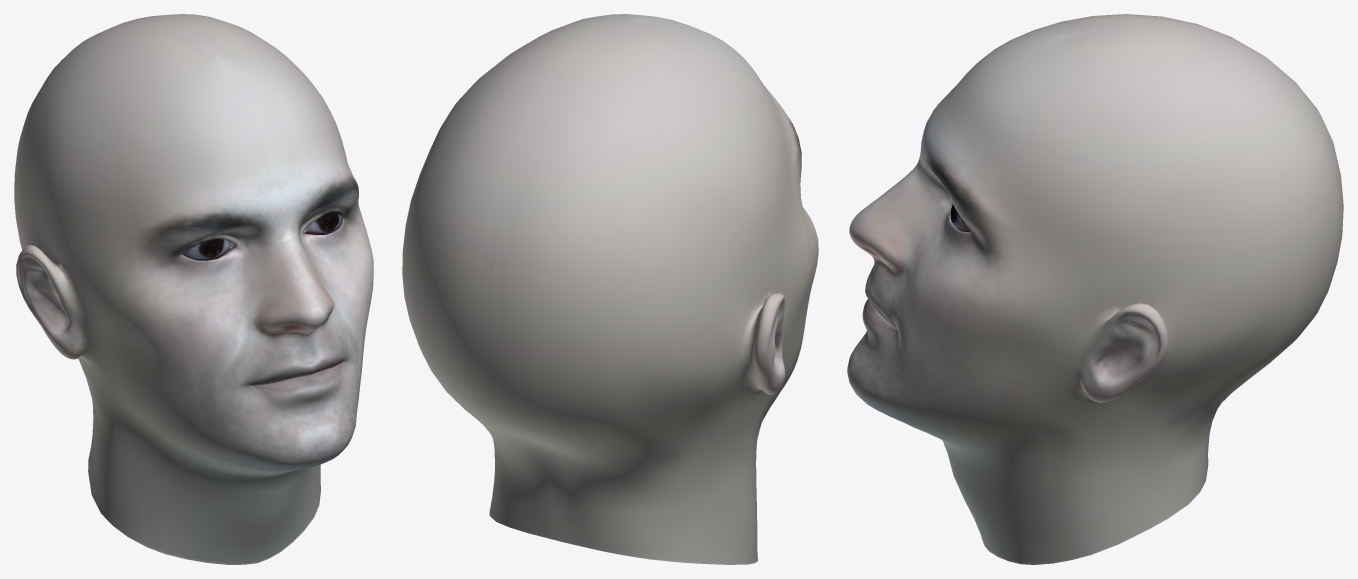
The picture shows the model from 3 angles, left to right: view 1: azimuth 30°, elevation 25°; view 2: azimuth 150°, elevation 25°; view 3: azimuth 270°, elevation 25°; orthographic projection. The views are drawn at different scales.
Parts seen in each view (by area): view 1: skin_hi, eyeR_hi, eyeL_hi; view 2: skin_hi; view 3: skin_hi.
Boxes of the visible parts, box(x1,y1,x2,y2) form: skin_hi: box(14, 14, 373, 564); eyeR_hi: box(182, 239, 233, 260); eyeL_hi: box(303, 212, 342, 234); skin_hi: box(402, 14, 818, 564); skin_hi: box(847, 14, 1343, 564).
Size of the model in its own units: 193 by 280 by 246.
